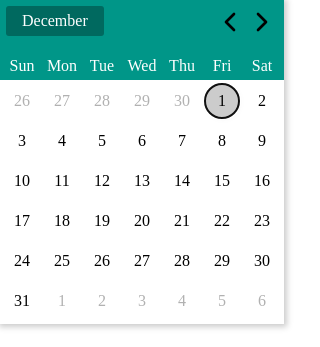
Scenario: Datepicker › should render when a current date is passed
Step 1. Click the button "December" → (55, 21), box [6, 6, 104, 36]
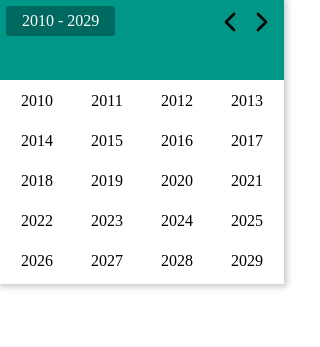
Now the button "2010 - 2029" is shown, box [6, 6, 115, 36]
